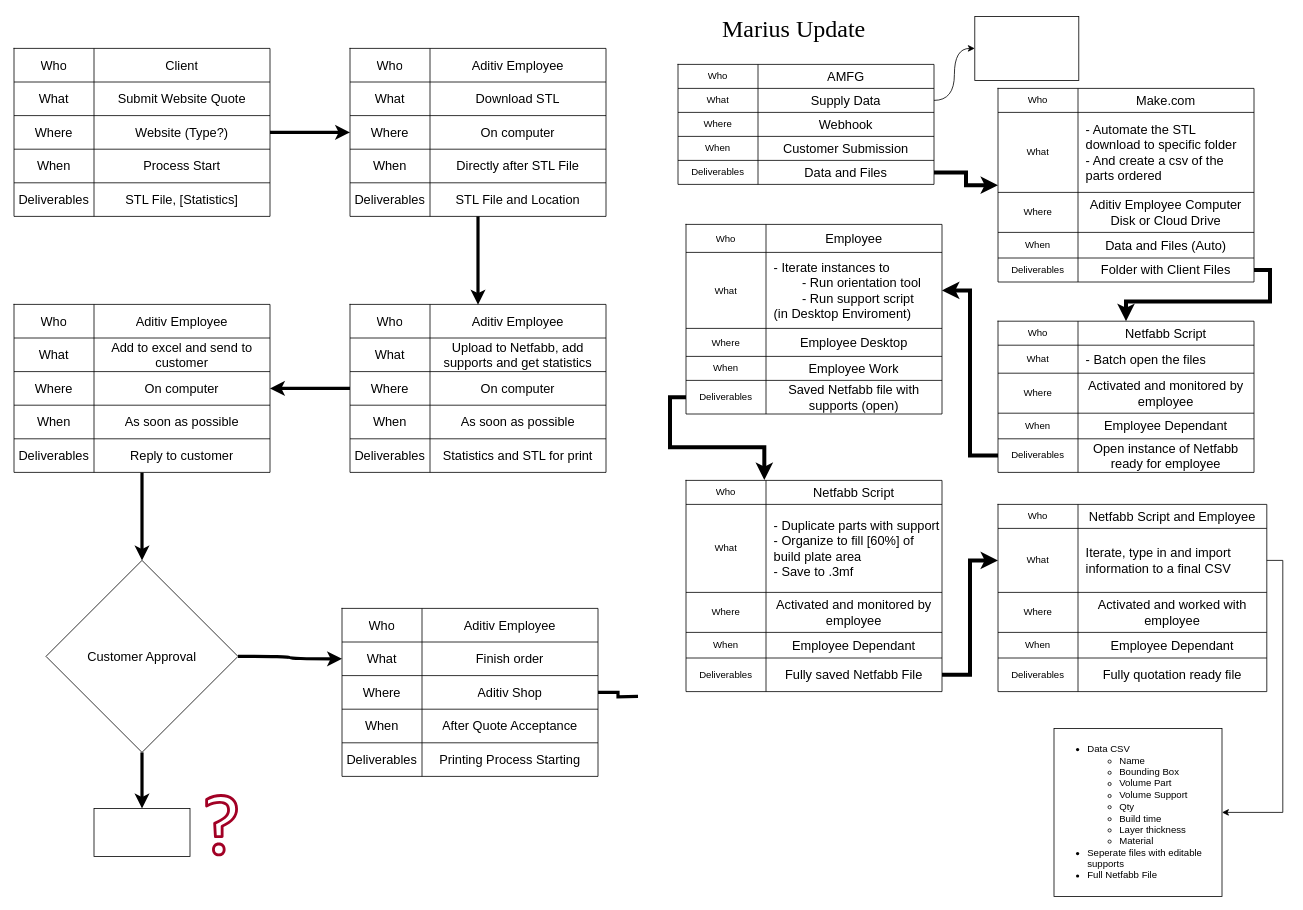
Some shapes in this 1303 by 910 pixel diagram are drawn without their labels. Each missing label, with the box of its shape:
No: (93, 808, 190, 856)
Part Name Quantity Material Link to CAD: (974, 16, 1079, 80)
